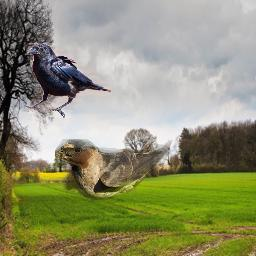Crow: (25, 43, 111, 118)
Swallow: (55, 139, 171, 202)
